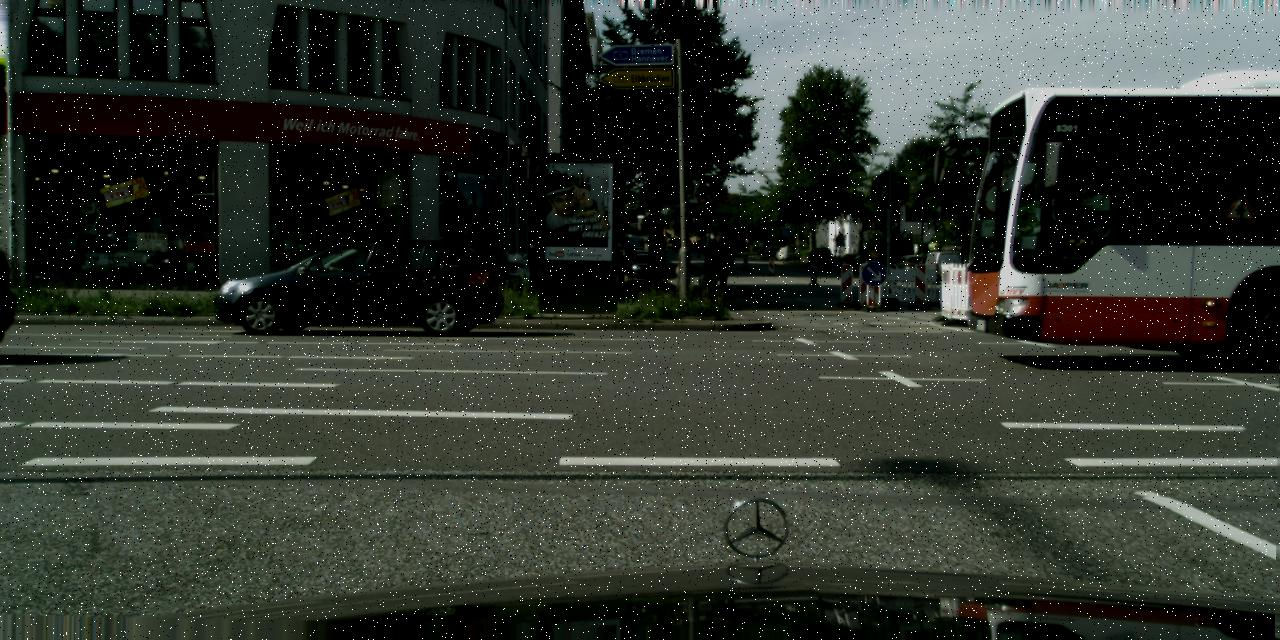ped: (604, 230, 634, 302), (702, 234, 732, 306), (521, 238, 541, 286)
